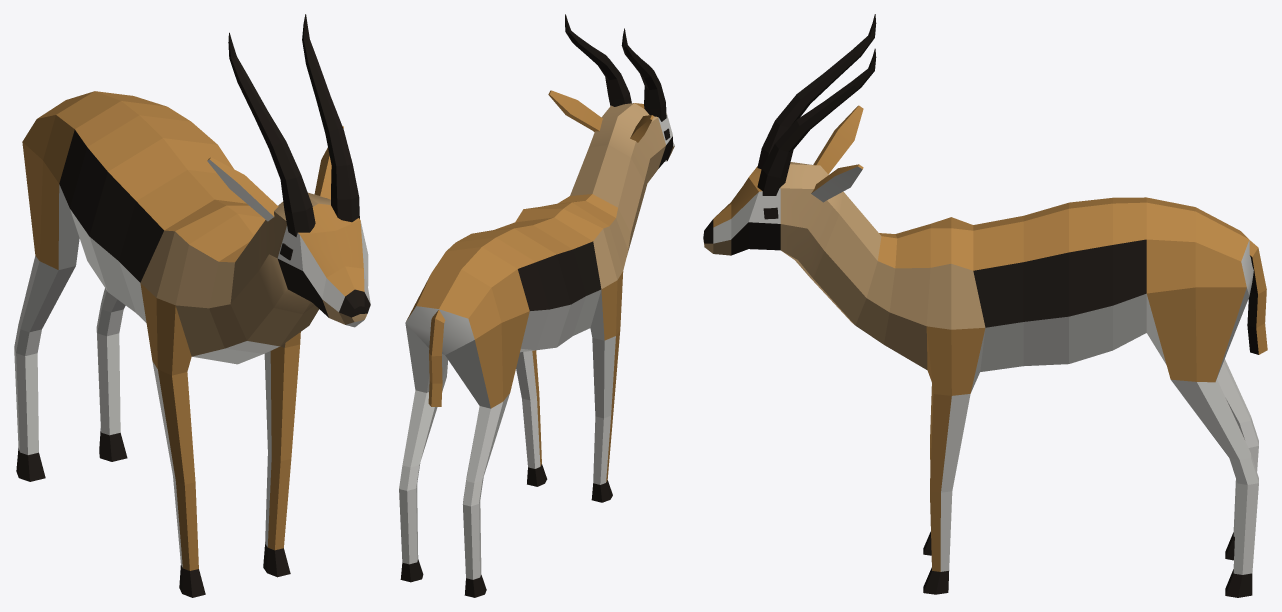
The model's file is Mesh_Gazelle.obj.
3 views of the same model, side by side, from view 1: azimuth 30°, elevation 25°; view 2: azimuth 150°, elevation 25°; view 3: azimuth 270°, elevation 25° (orthographic). The views are drawn at different scales.
Parts seen in each view (by area): view 1: Geo_Gazelle; view 2: Geo_Gazelle; view 3: Geo_Gazelle.
Boxes of the visible parts, bbox=[...] form: Geo_Gazelle: bbox=[14, 14, 370, 597]; Geo_Gazelle: bbox=[399, 14, 674, 597]; Geo_Gazelle: bbox=[703, 14, 1267, 597].
Size of the model in its own units: 36.52 by 139 by 131.
1 material, 1 textured.
